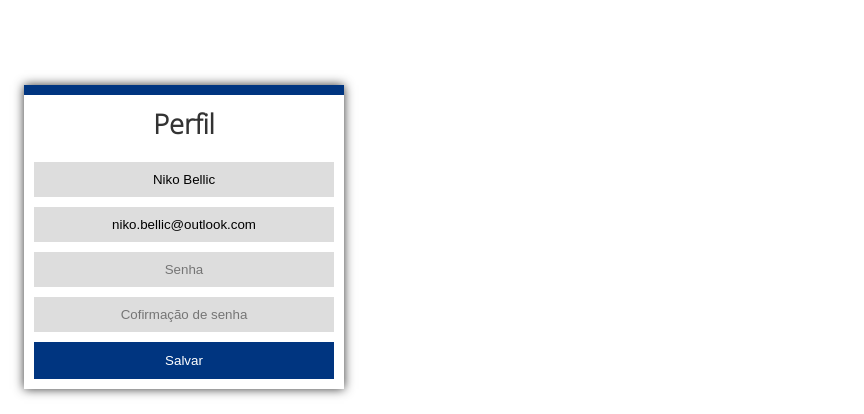
Test: <Profile /> 2 › should update the profile
The width and height of the screenshot is (864, 414).
Replace the text in the field with placeholder "Nome" with "Tobias Leite": (184, 180) top-left (34, 162), bottom-right (334, 197)
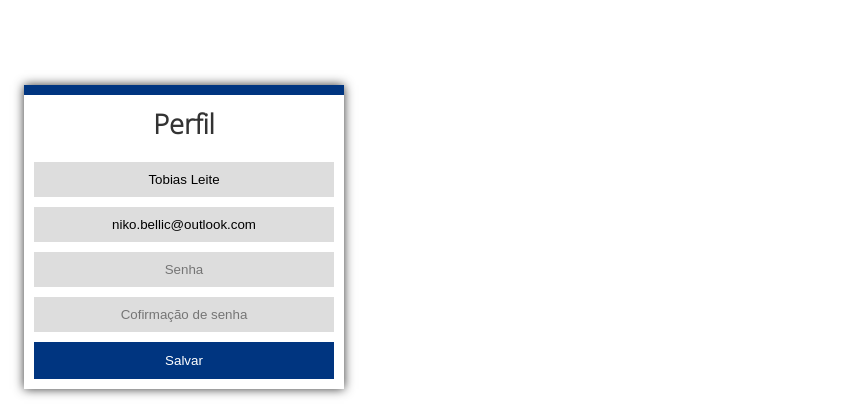
Replace the text in the field with placeholder "exemplo@outlook.com" with "tobias.leite@outlook.com": (184, 224) top-left (34, 207), bottom-right (334, 242)
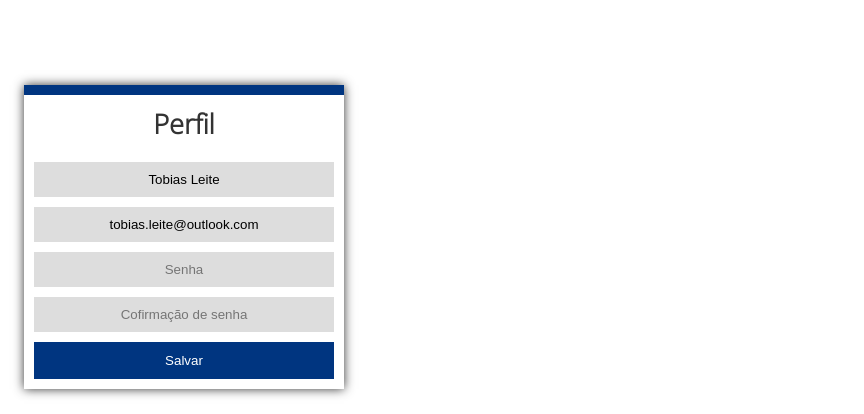
In the password field with placeholder "Senha": (184, 270) top-left (34, 252), bottom-right (334, 287), type "123456789"
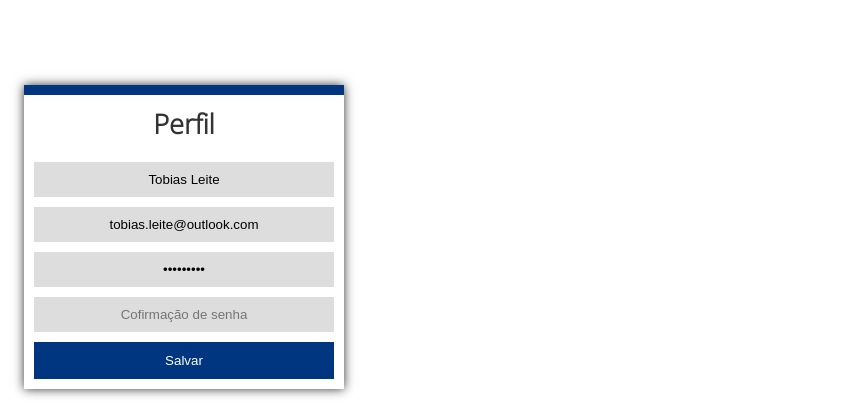
In the password field with placeholder "Cofirmação de senha": (184, 314) top-left (34, 297), bottom-right (334, 332), type "123456789"
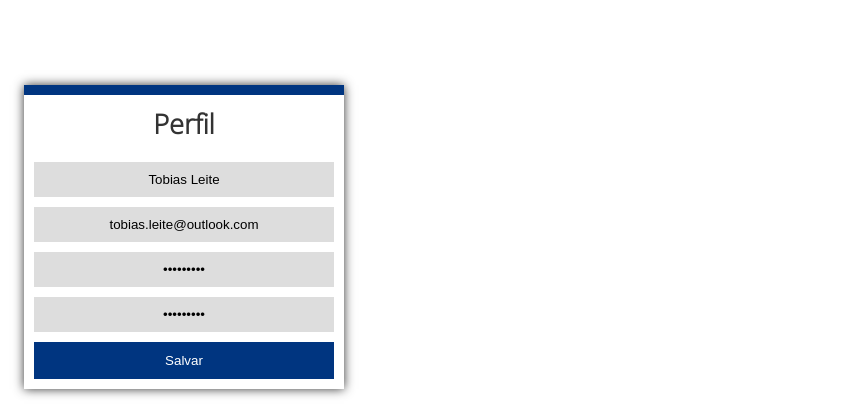
Click the button "Salvar": (184, 360) top-left (34, 342), bottom-right (334, 379)
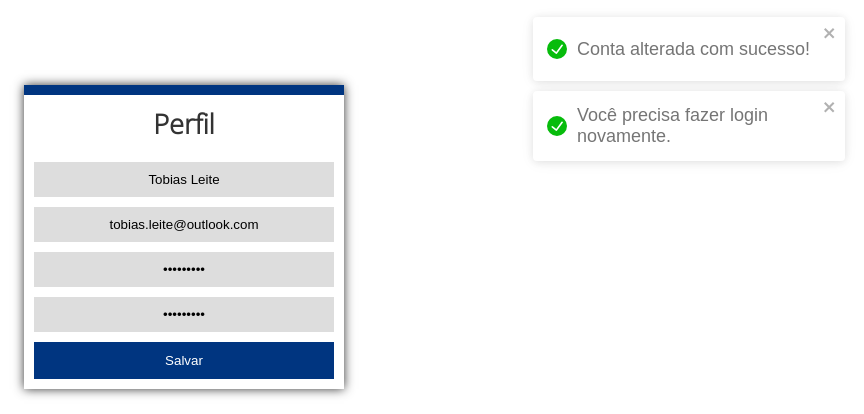
expect the text "Conta alterada com sucesso!" is shown: met, box top-left (577, 38), bottom-right (817, 60)
expect the text "Você precisa fazer login novamente." is shown: met, box top-left (577, 105), bottom-right (768, 146)
